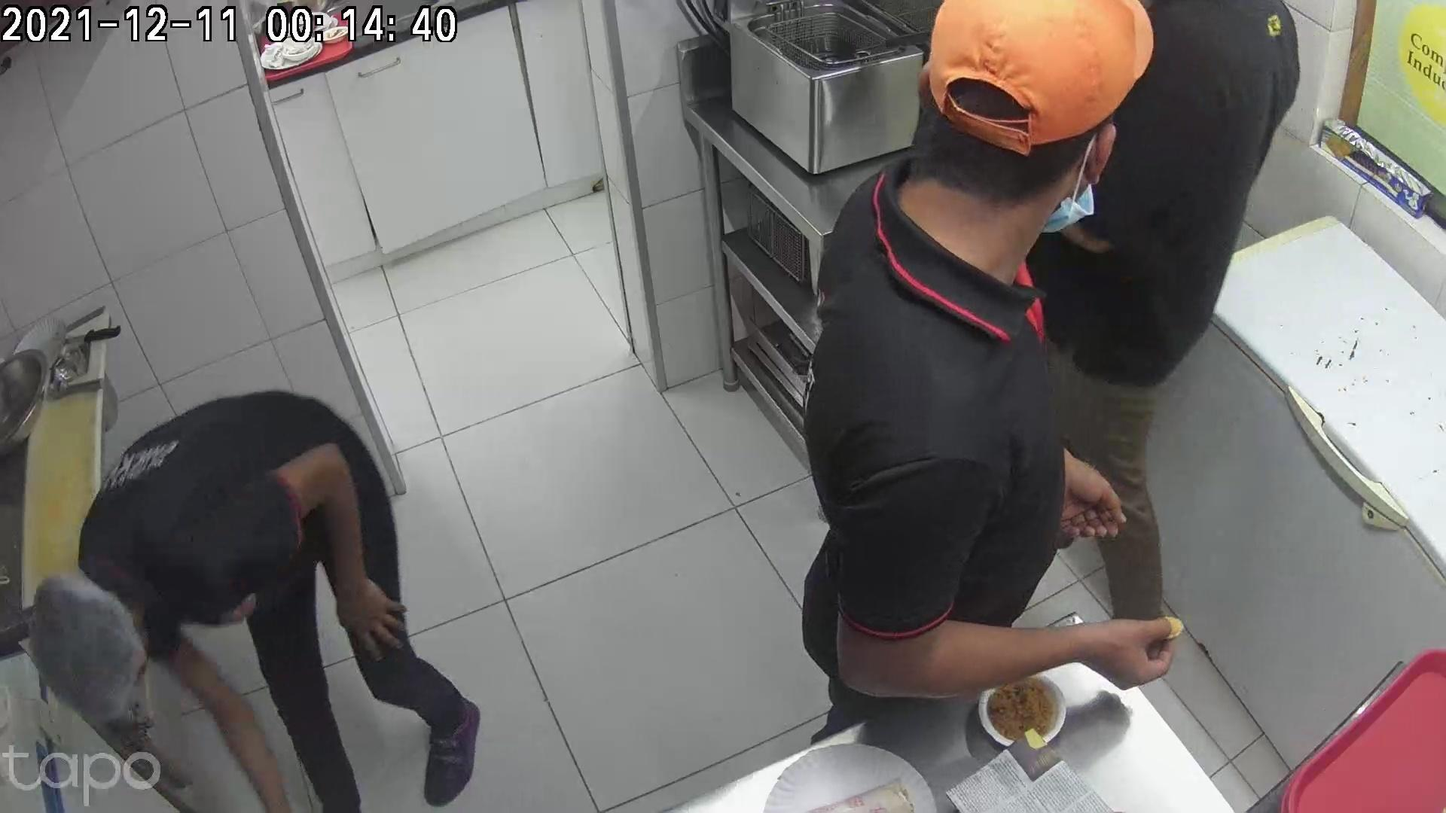no_gloves: (1054, 622, 1174, 691)
